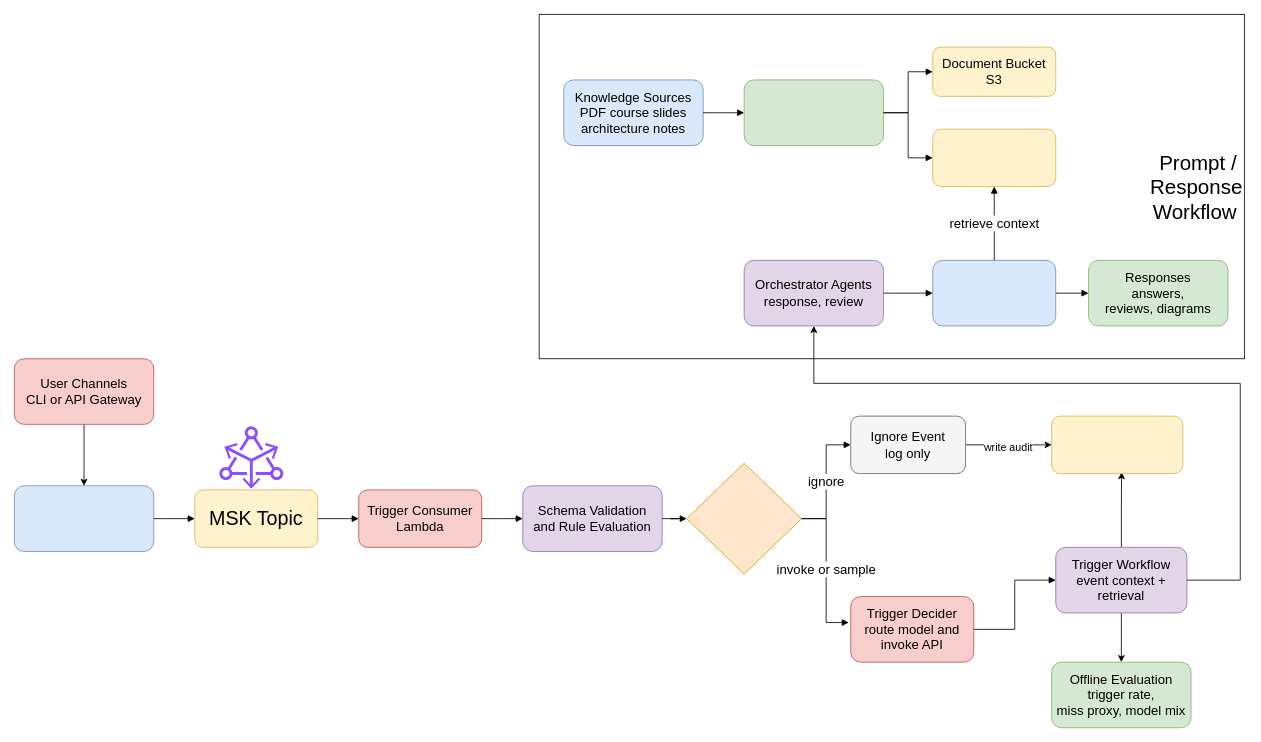
This 1261x742 diagram has some shape labels left out. Here are the shapes that lost their labels. From the top down, the centre of each, then its label:
At pixel 813 112: "Ingestion Pipeline chunking and upload".
At pixel 994 157: "Bedrock Knowledge Base plus S3 Vectors".
At pixel 994 293: "Bedrock Client retrieve + generate".
At pixel 1117 444: "Audit Bucket and CloudWatch".
At pixel 84 518: "Event Producers transactions, alerts, support signals".
At pixel 744 518: "Decision invoke, sample, or ignore".
